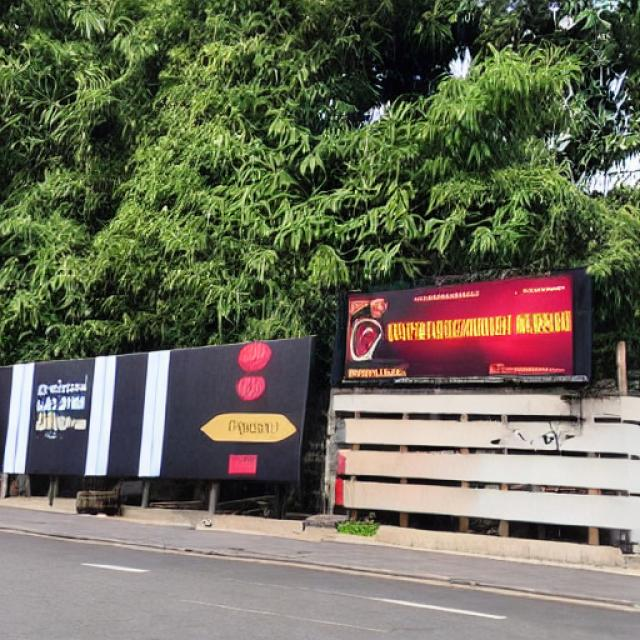Billboard: (0, 334, 314, 494), (338, 271, 586, 384)
